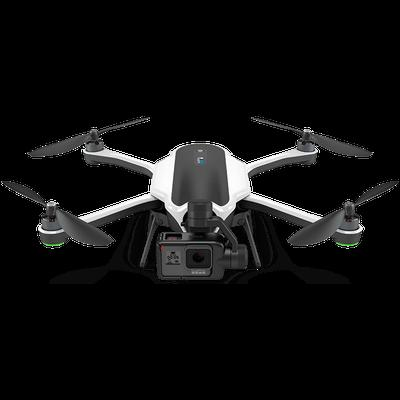drone: (14, 109, 399, 269)
